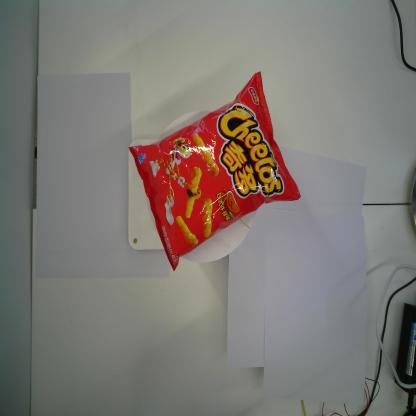Puffed Food: (129, 70, 300, 273)
